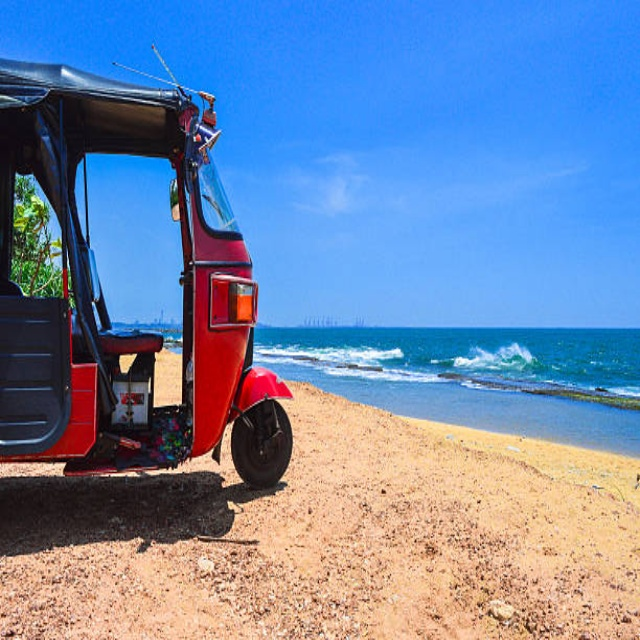Motorcycle: (1, 55, 294, 491)
